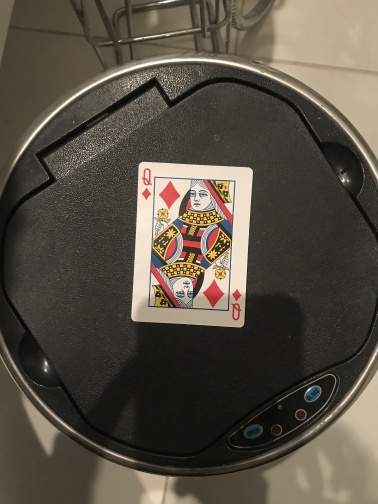queen: (131, 161, 255, 329)
